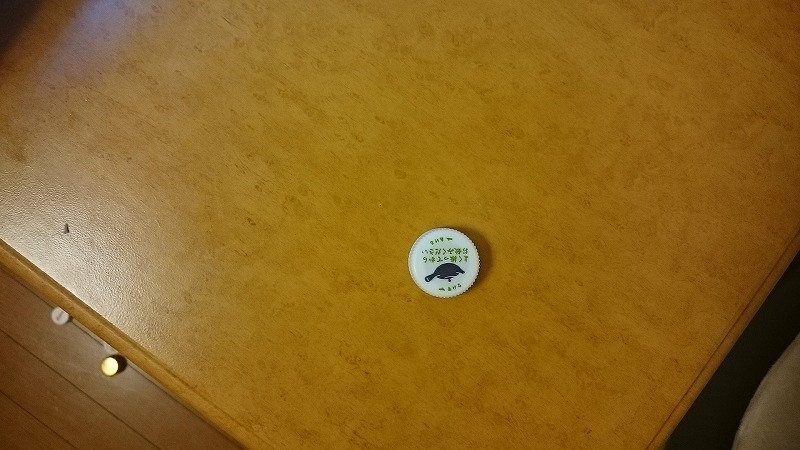A: (404, 220, 486, 302)
